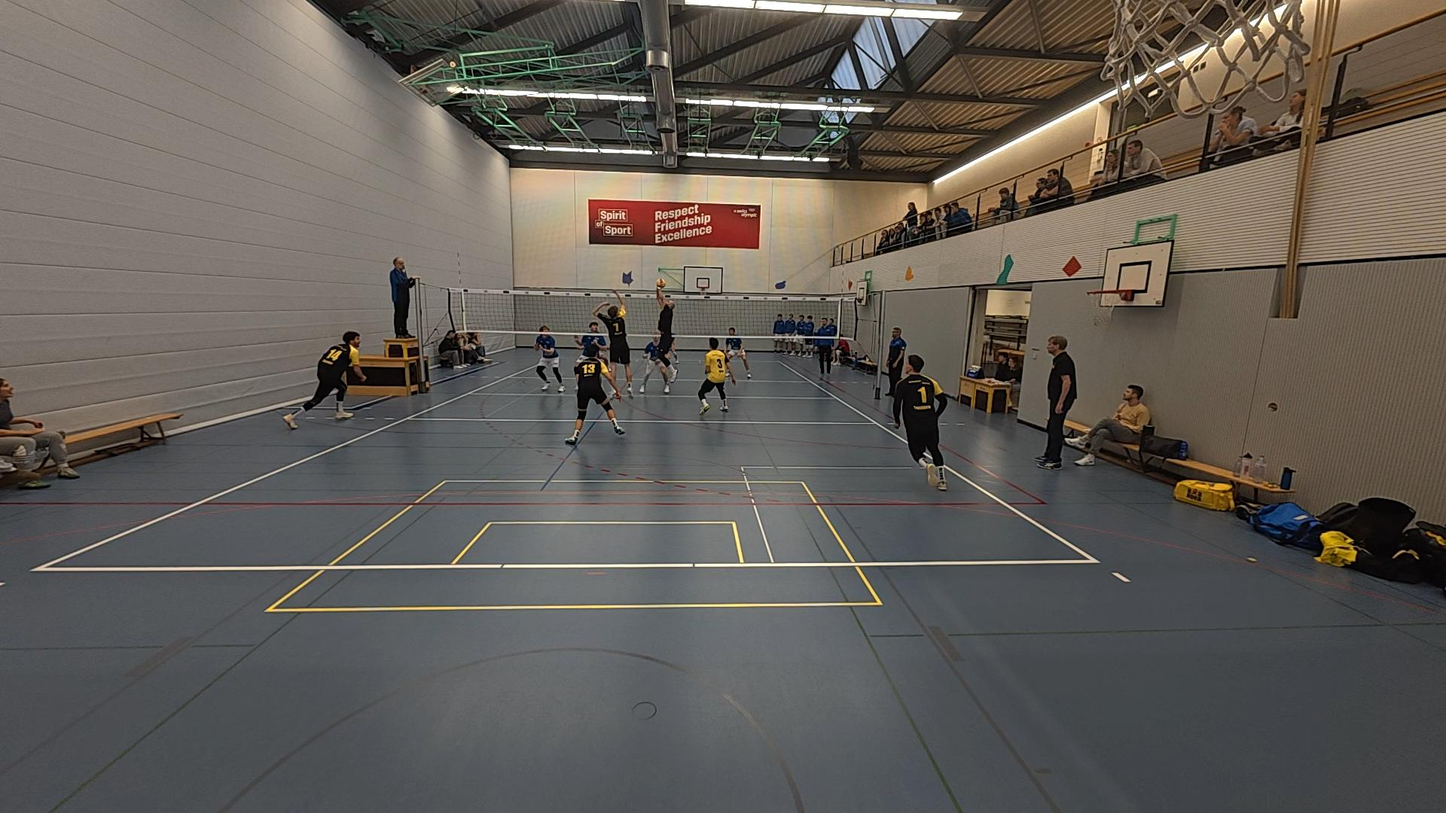Player: (284, 330, 364, 428), (894, 355, 948, 490), (565, 346, 626, 446), (593, 292, 633, 398), (697, 337, 732, 414), (635, 330, 674, 397), (534, 324, 567, 392), (723, 327, 750, 381), (580, 318, 606, 362)
Set: (645, 282, 679, 386)
ball: (902, 265, 916, 280), (654, 277, 669, 288)
